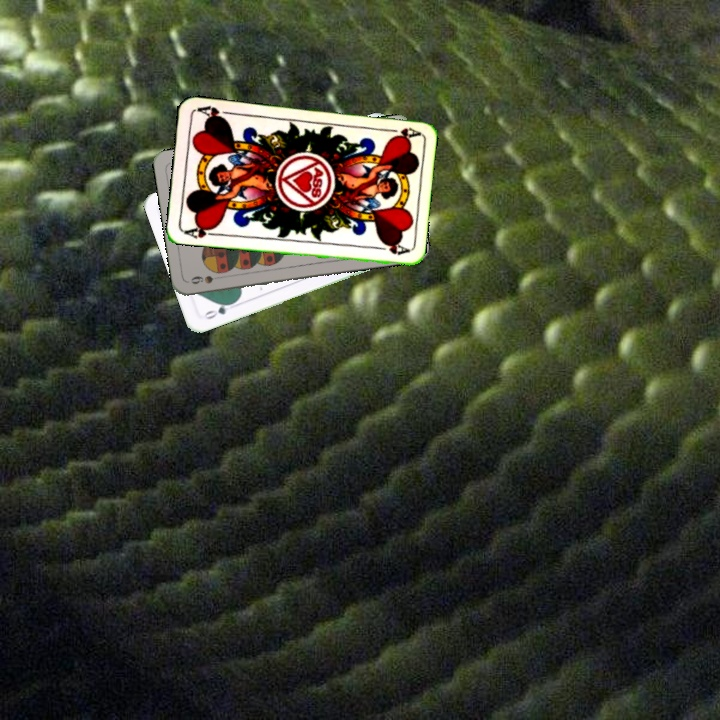GO: (199, 298, 237, 322)
HA: (180, 221, 221, 241), (380, 123, 421, 141)
S9: (187, 272, 227, 287)
